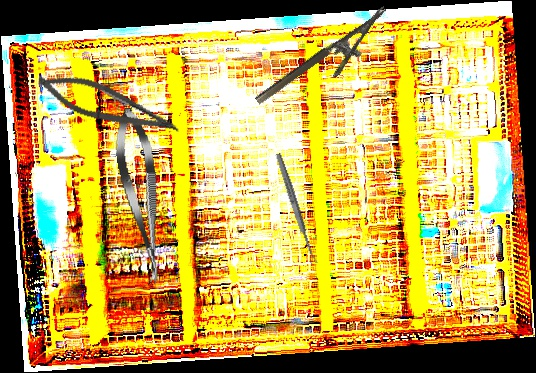Micro Scissor: (31, 66, 187, 142), (109, 105, 173, 287)
Needle Holder: (253, 5, 402, 123)
Surgical Spoon: (274, 152, 318, 266)
